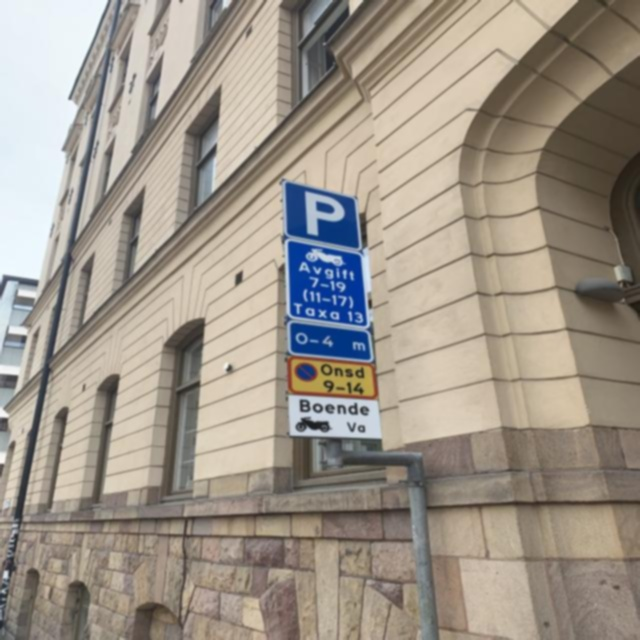P-skylt: (279, 177, 367, 253)
